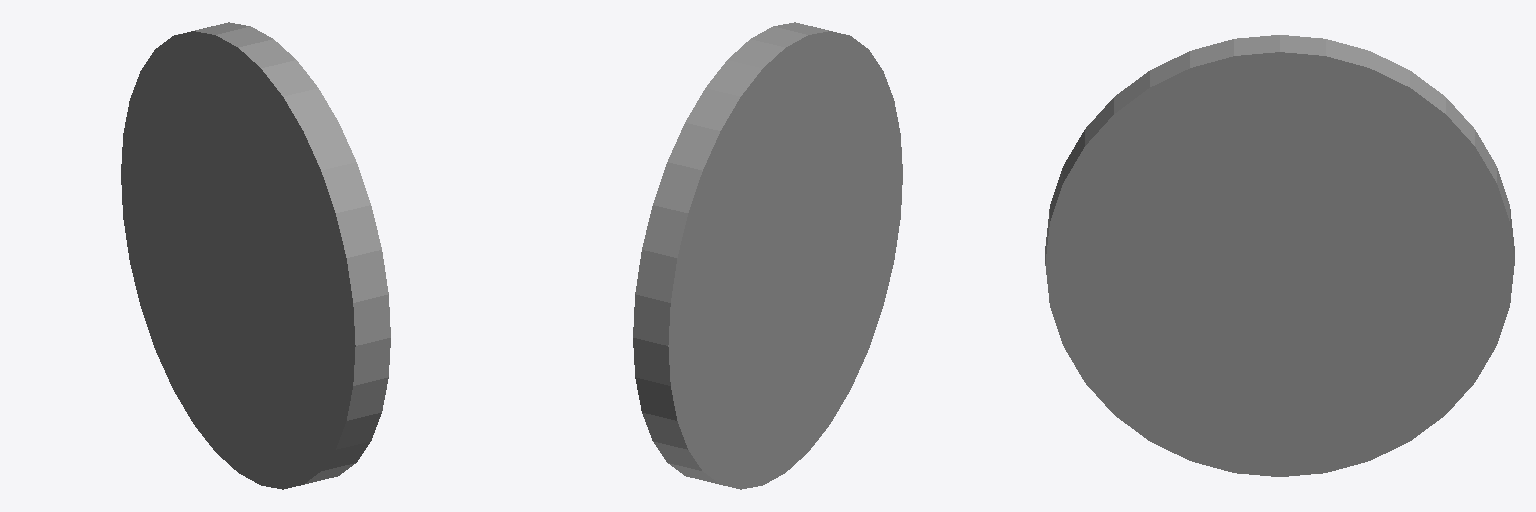
The model's file is Coin.obj.
3 views of the same model, side by side, from view 1: azimuth 30°, elevation 25°; view 2: azimuth 150°, elevation 25°; view 3: azimuth 270°, elevation 25° (orthographic).
Parts seen in each view (by area): view 1: Coin; view 2: Coin; view 3: Coin.
Part boxes in pixels (x1,y1,x2,y2): Coin: (121,22,390,489); Coin: (633,22,902,489); Coin: (1045,35,1514,476).
Bounding box in the file's own units: 0.1748 × 2 × 2.